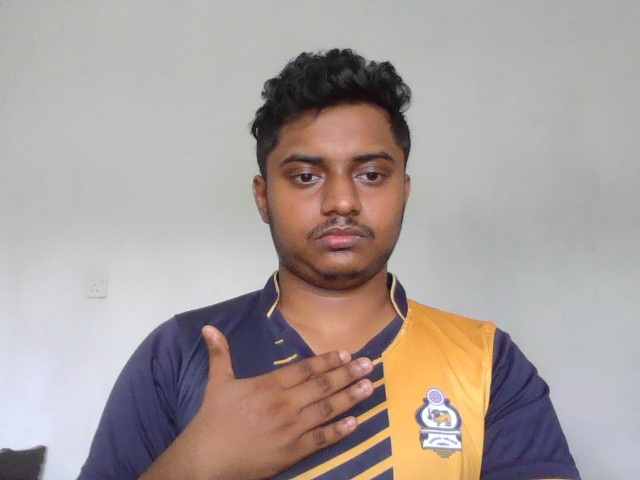Please: (196, 321, 377, 479)
